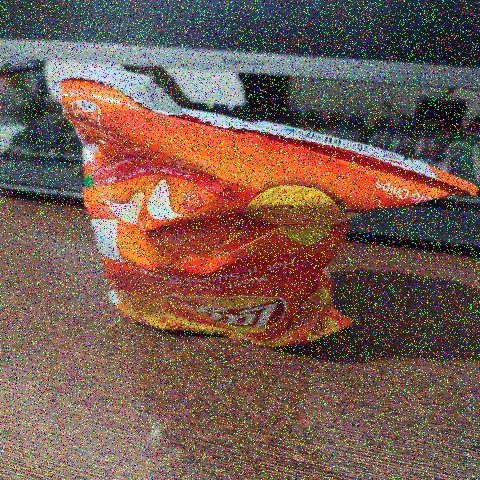lays_orange_pack: (32, 54, 479, 376)
